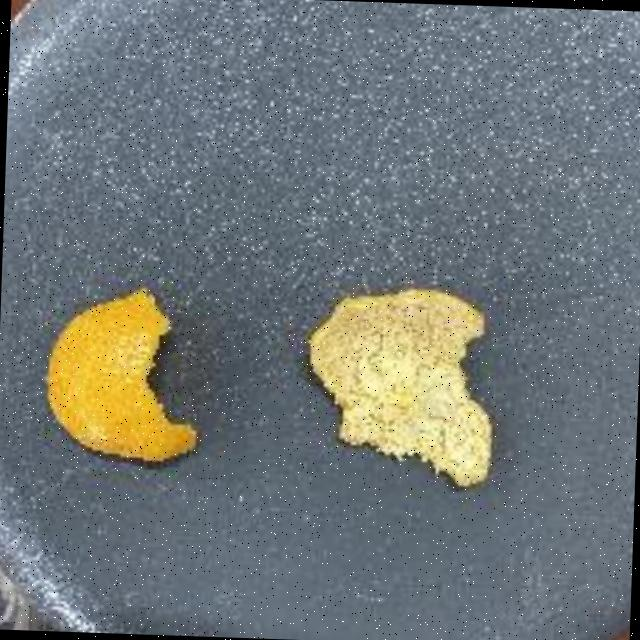orange-peel: (41, 281, 203, 466)
